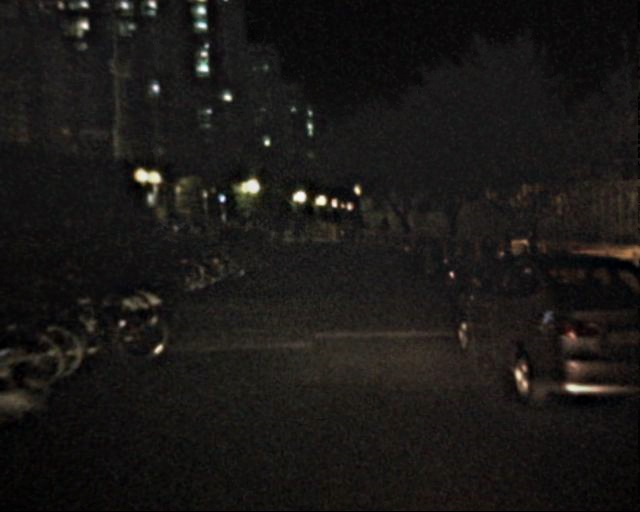person: (244, 214, 277, 236), (157, 217, 172, 253), (177, 214, 192, 250), (274, 215, 288, 250), (288, 210, 302, 245), (194, 217, 207, 249), (379, 214, 392, 245)
